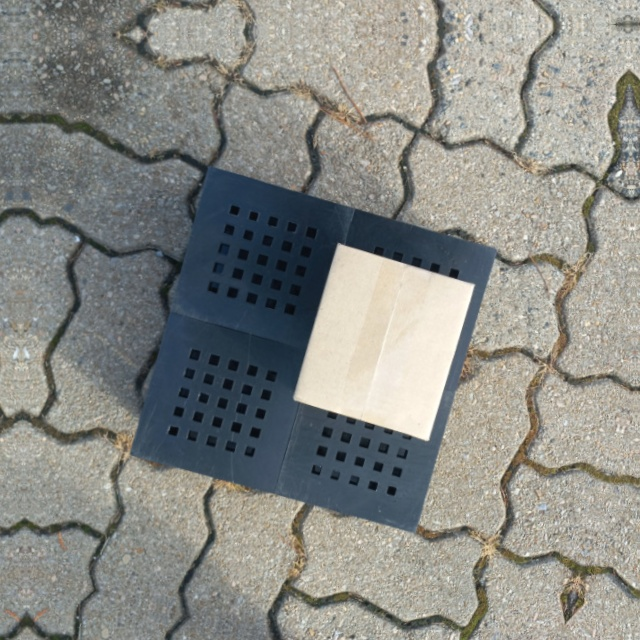box: (288, 241, 479, 446)
pallet: (108, 149, 506, 551)
